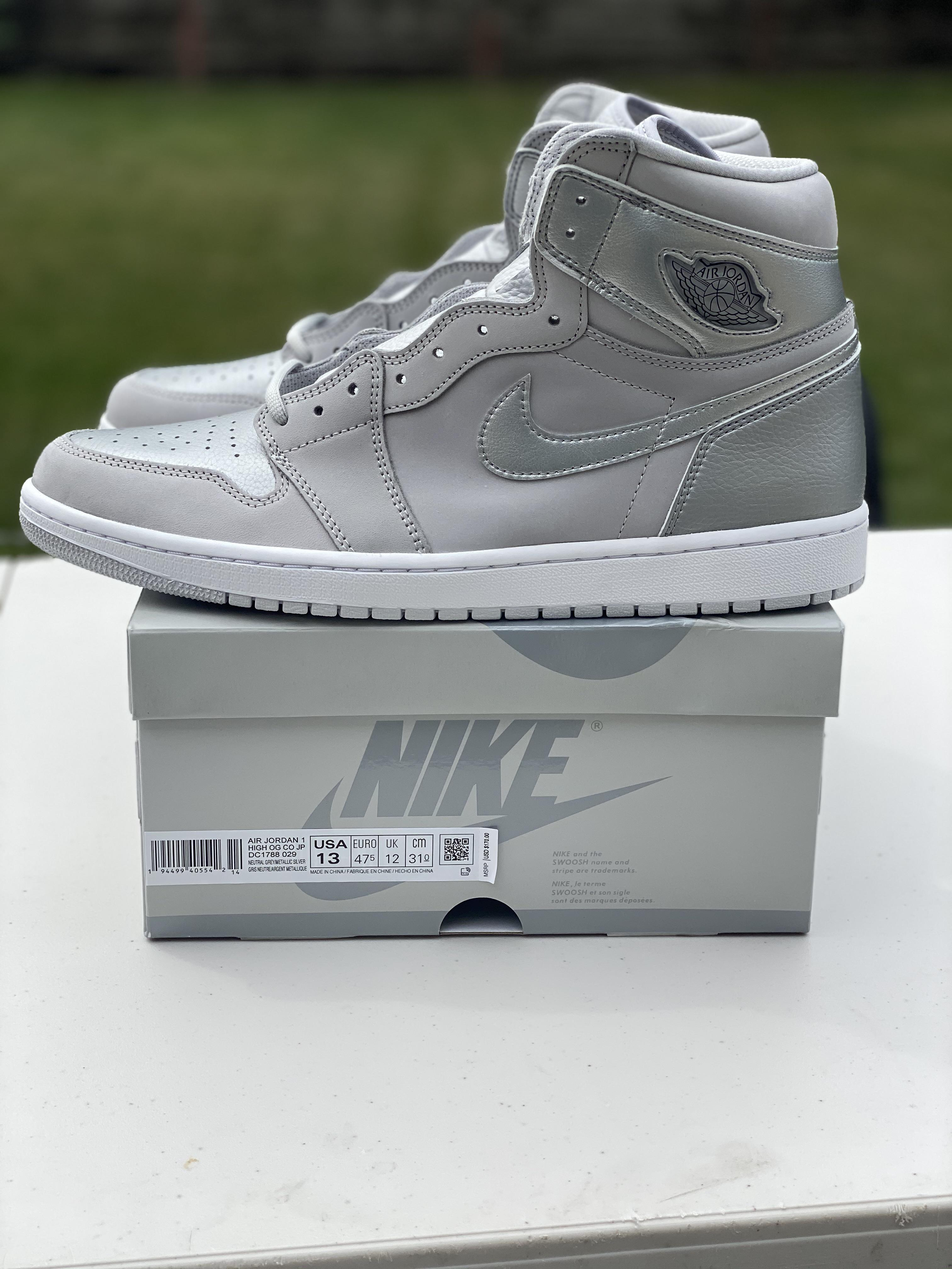sneaker: (17, 79, 920, 655)
